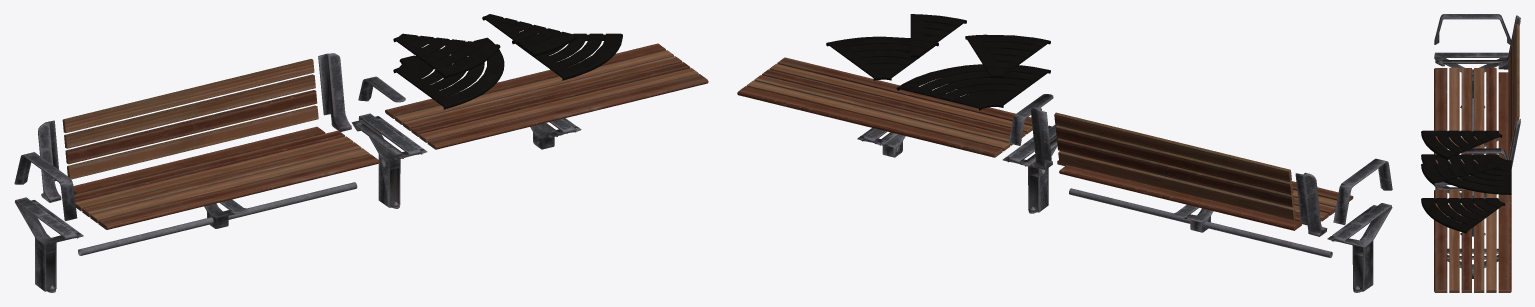
The model's file is street_bench.glb.
3 renders of one model, left to right at view 1: azimuth 30°, elevation 25°; view 2: azimuth 150°, elevation 25°; view 3: azimuth 270°, elevation 25°, orthographic. The views are drawn at different scales.
Visible parts, largest first — view 1: seat, seat_back, connector_60, legs_double, crossbar; view 2: seat, seat_back, connector_60, crossbar, legs_double; view 3: seat, connector_60, legs_double, crossbar, seat_back.
Boxes of the visible parts, bbox=[...] form: seat: bbox=[73, 43, 708, 229]; seat_back: bbox=[62, 59, 318, 179]; connector_60: bbox=[393, 14, 622, 109]; legs_double: bbox=[15, 113, 581, 292]; crossbar: bbox=[14, 53, 405, 255]; seat: bbox=[737, 57, 1353, 230]; seat_back: bbox=[1054, 112, 1295, 220]; connector_60: bbox=[826, 14, 1050, 110]; crossbar: bbox=[1009, 94, 1392, 257]; legs_double: bbox=[857, 125, 1392, 292]; seat: bbox=[1434, 68, 1511, 292]; connector_60: bbox=[1421, 130, 1511, 233]; legs_double: bbox=[1434, 52, 1508, 278]; crossbar: bbox=[1434, 14, 1520, 195]; seat_back: bbox=[1508, 24, 1519, 157].
Bounding box in the file's own units: 4.34 × 0.9499 × 0.7703.
Materials: 4 (4 with a texture image).
